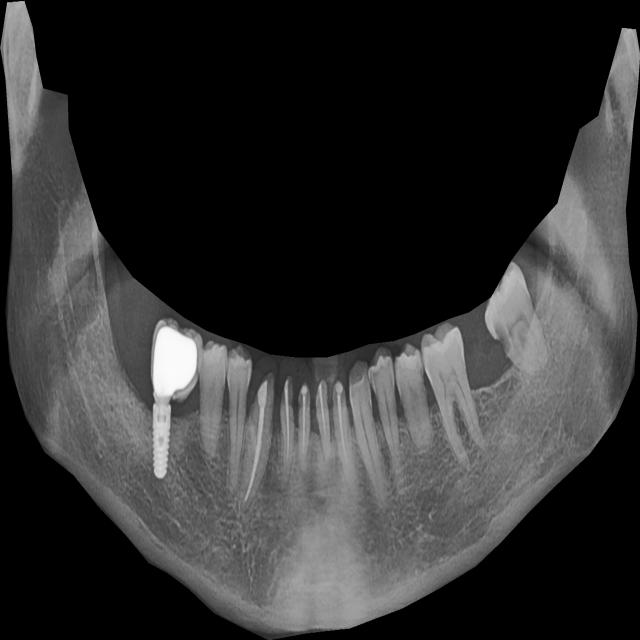mandibula: (0, 1, 640, 640)
